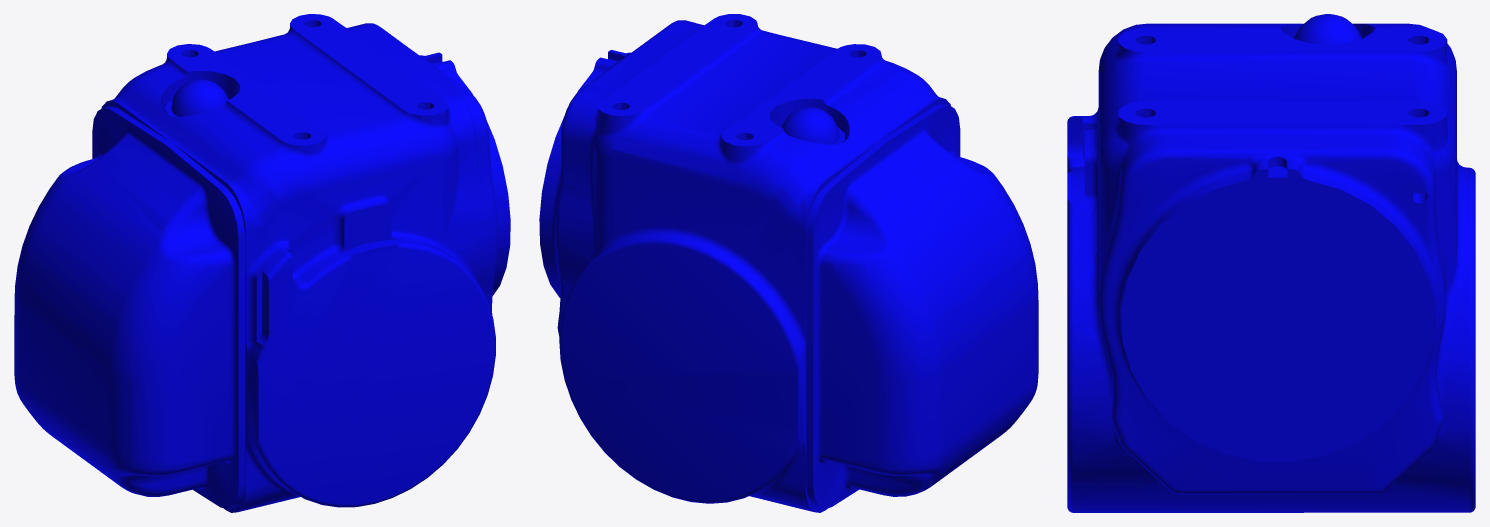
File: MH5L_U_AXIS.dae
The picture shows the model from 3 angles, left to right: view 1: azimuth 30°, elevation 25°; view 2: azimuth 150°, elevation 25°; view 3: azimuth 270°, elevation 25°; orthographic projection. The views are drawn at different scales.
Visible parts, largest first — view 1: node; view 2: node; view 3: node.
Part boxes in pixels (bbox=[...]): node: bbox=[14, 14, 510, 512]; node: bbox=[539, 14, 1038, 512]; node: bbox=[1067, 14, 1475, 512].
Size of the model in its own units: 0.1705 by 0.13 by 0.1545.
